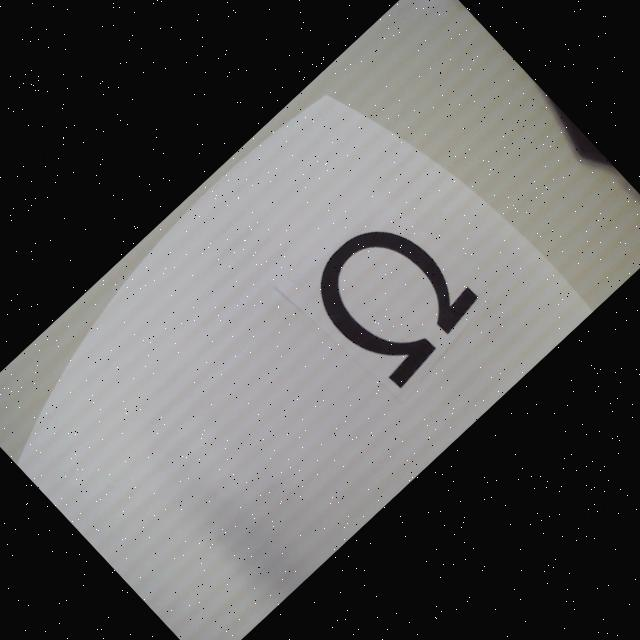OMEGA: (298, 201, 488, 392)
